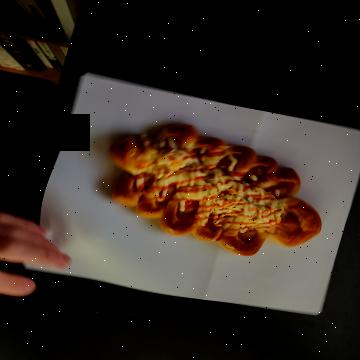pizza_bread: (121, 40, 254, 258)
